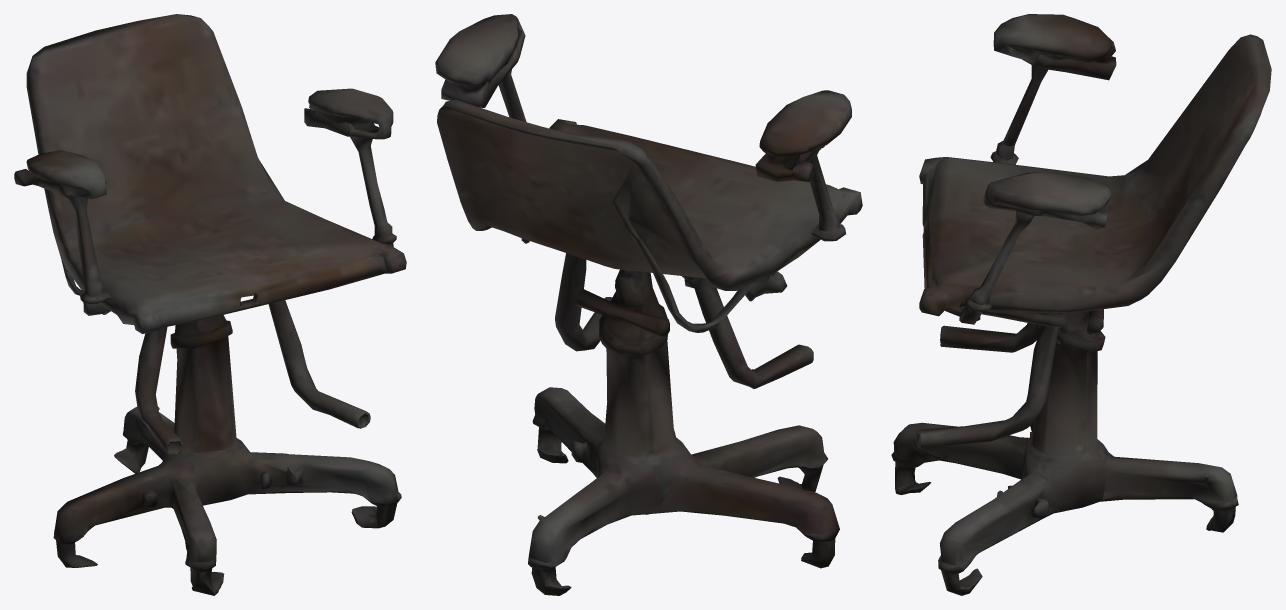
The model's file is chipped-iron-examination-chair-v001.glb.
3 views of the same model, side by side, from view 1: azimuth 30°, elevation 25°; view 2: azimuth 150°, elevation 25°; view 3: azimuth 270°, elevation 25° (orthographic). The views are drawn at different scales.
Visible parts, largest first — view 1: chipped-iron-examination-chair; view 2: chipped-iron-examination-chair; view 3: chipped-iron-examination-chair.
Boxes of the visible parts, x1=… form: chipped-iron-examination-chair: x1=14, y1=14, x2=406, y2=595; chipped-iron-examination-chair: x1=435, y1=14, x2=862, y2=595; chipped-iron-examination-chair: x1=891, y1=14, x2=1271, y2=595.
Size of the model in its own units: 0.9867 by 1.18 by 0.8888.
Materials: 1 (1 with a texture image).
